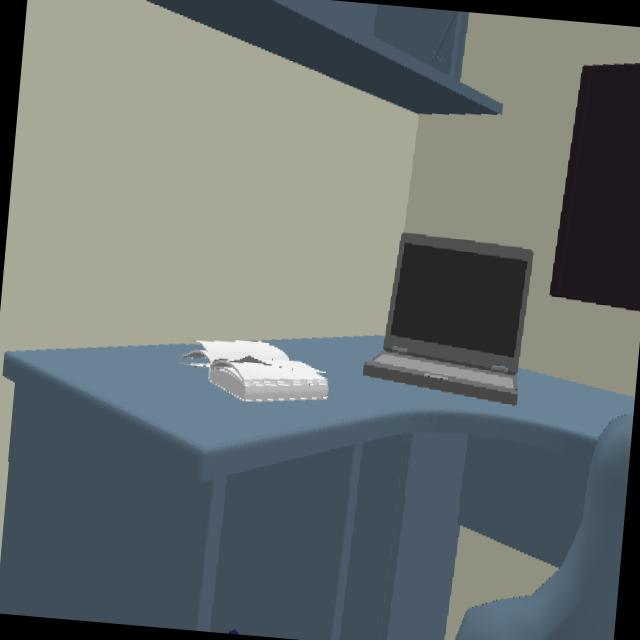book: (185, 340, 328, 401)
laptop: (365, 234, 531, 404)
monitor: (550, 64, 640, 310)
shelf: (151, 0, 501, 113)
table: (3, 336, 633, 479)
